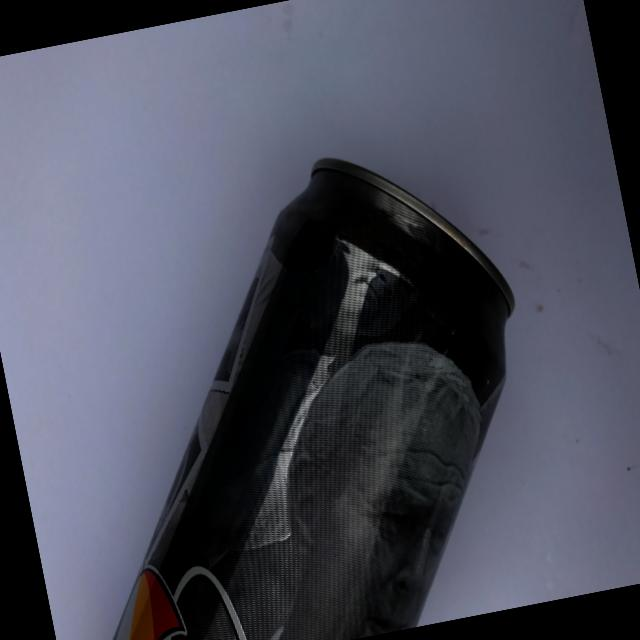Metal: (0, 116, 580, 640)
